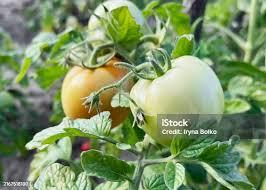Mengkal: (130, 57, 227, 145), (59, 49, 131, 127)
